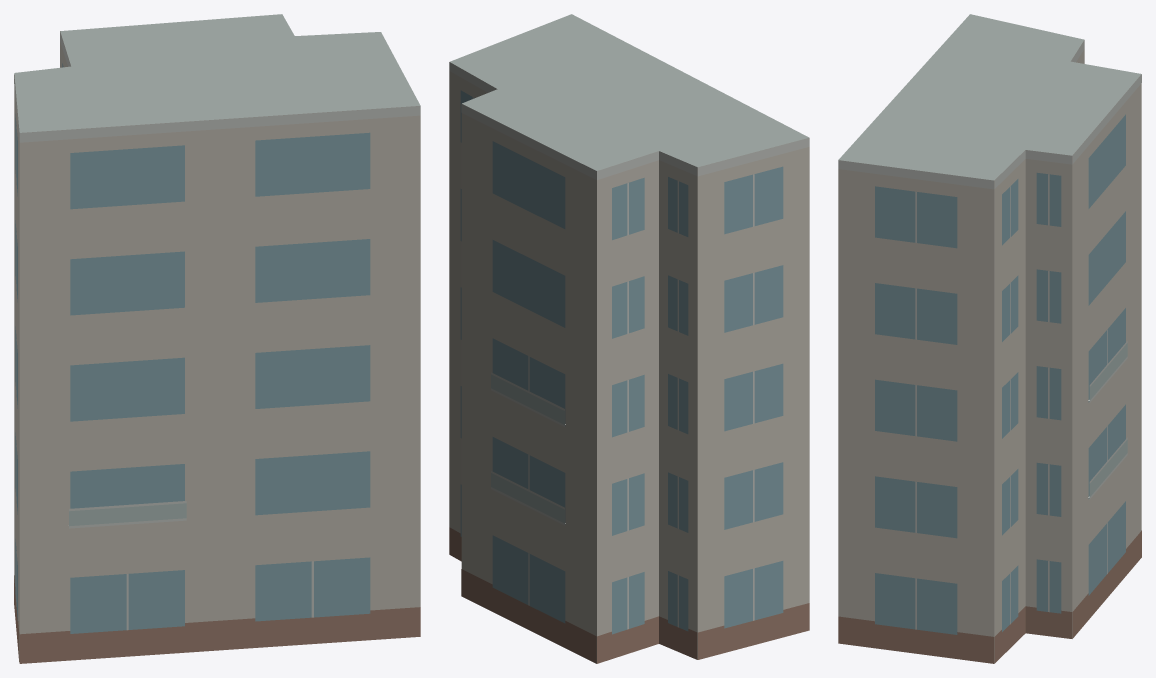
The model's file is survey-upis-33014897.glb.
The picture shows the model from 3 angles, left to right: view 1: azimuth 30°, elevation 25°; view 2: azimuth 150°, elevation 25°; view 3: azimuth 270°, elevation 25°; orthographic projection. The views are drawn at different scales.
Visible parts, largest first — view 1: survey-upis-33014897.tmp; view 2: survey-upis-33014897.tmp; view 3: survey-upis-33014897.tmp.
Boxes of the visible parts, x1,y1,x2,y2 form: survey-upis-33014897.tmp: [14, 14, 420, 663]; survey-upis-33014897.tmp: [449, 14, 809, 663]; survey-upis-33014897.tmp: [838, 14, 1141, 663].
Bounding box in the file's own units: 9.76 × 13.2 × 7.52.
